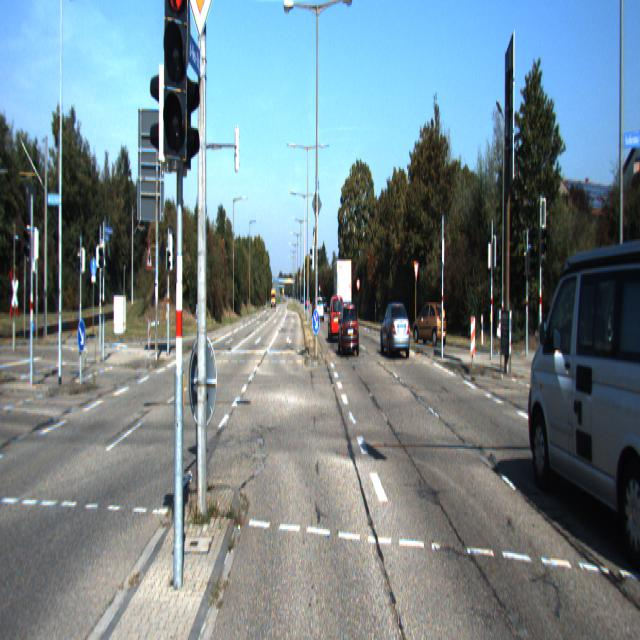Car: (525, 219, 640, 576), (380, 300, 411, 360), (413, 300, 447, 346), (333, 256, 352, 323), (338, 303, 360, 357), (328, 294, 344, 344)
